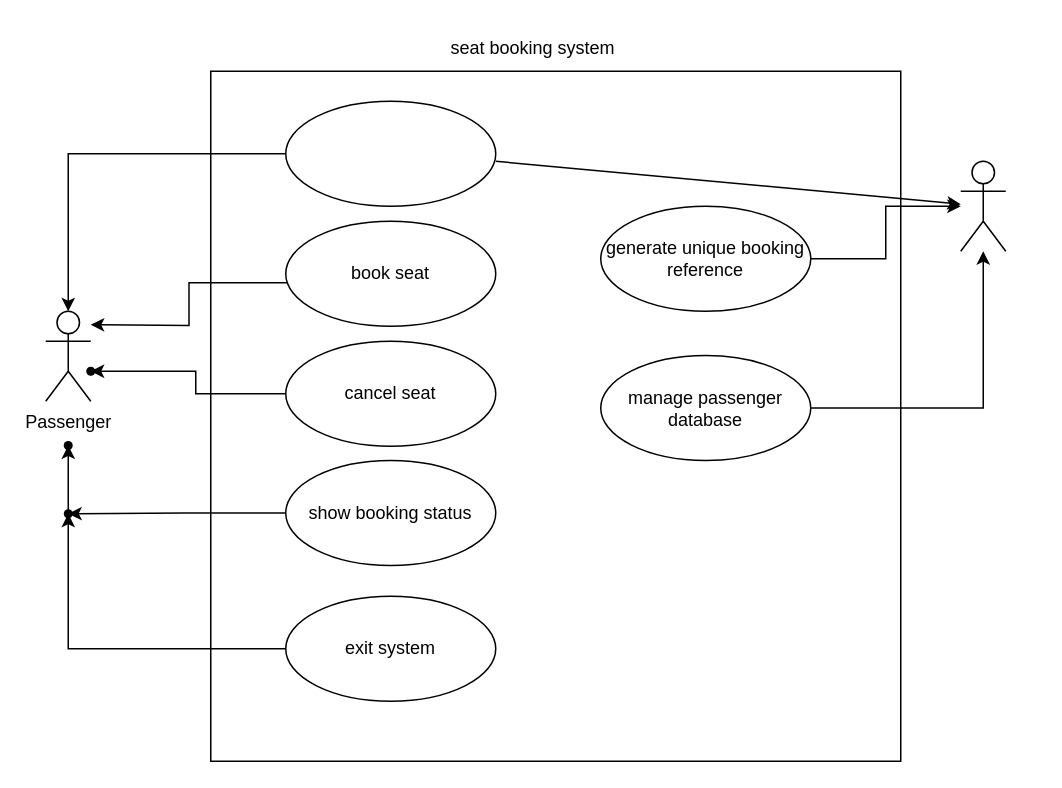
This 1062x788 diagram has some shape labels left out. Here are the shapes that lost their labels. From the top down, the centre of each, then its label:
At point (390, 153): "check seat availability".
At point (982, 205): "Administrator".
